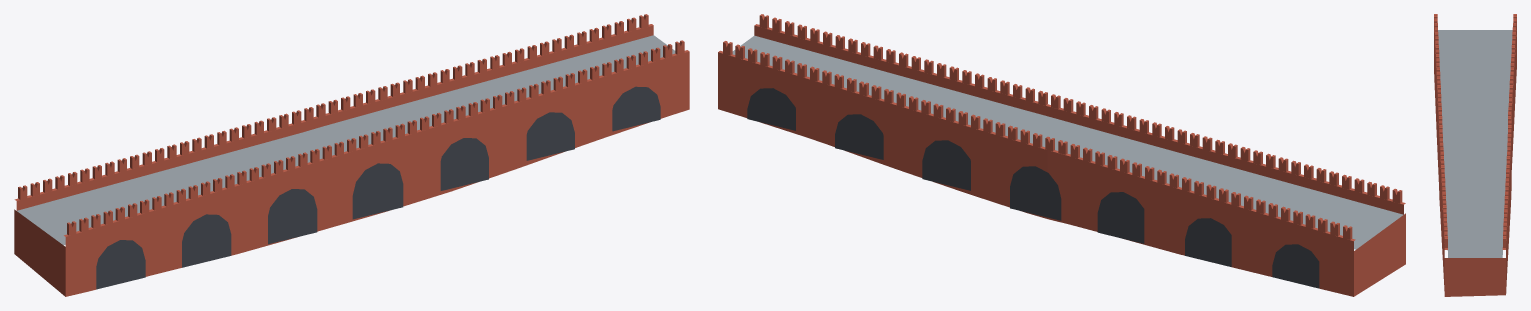
File: moscow-kremlin-trinity-bridge.glb
3 renders of one model, left to right at view 1: azimuth 30°, elevation 25°; view 2: azimuth 150°, elevation 25°; view 3: azimuth 270°, elevation 25°, orthographic. The views are drawn at different scales.
Parts seen in each view (by area): view 1: Trinity Bridge; view 2: Trinity Bridge; view 3: Trinity Bridge.
Boxes of the visible parts, <box> form: Trinity Bridge: <box>14,14,689,296</box>; Trinity Bridge: <box>718,14,1405,296</box>; Trinity Bridge: <box>1434,14,1516,296</box>.
Bounding box in the file's own units: 87.2 × 13.04 × 12.25.
